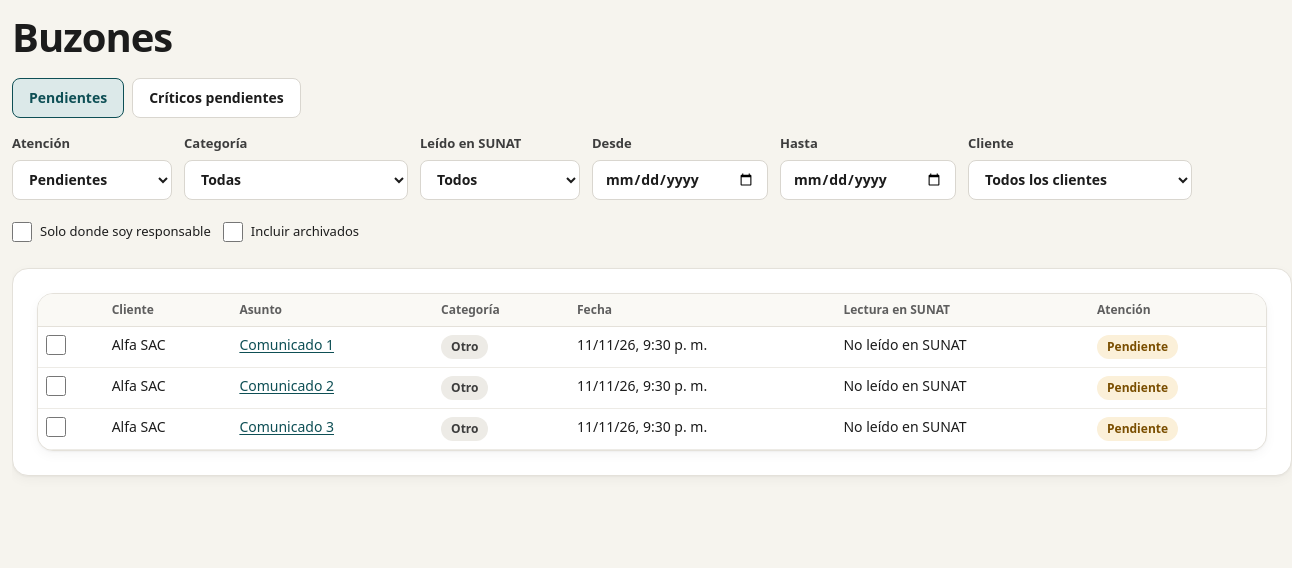
<Bandeja /> · atención en lote desde la lista (CA-6, CA-7) › cambiar de filtro limpia la selección
Click the checkbox named "Seleccionar Comunicado 1": [56, 344] box [46,334,66,354]
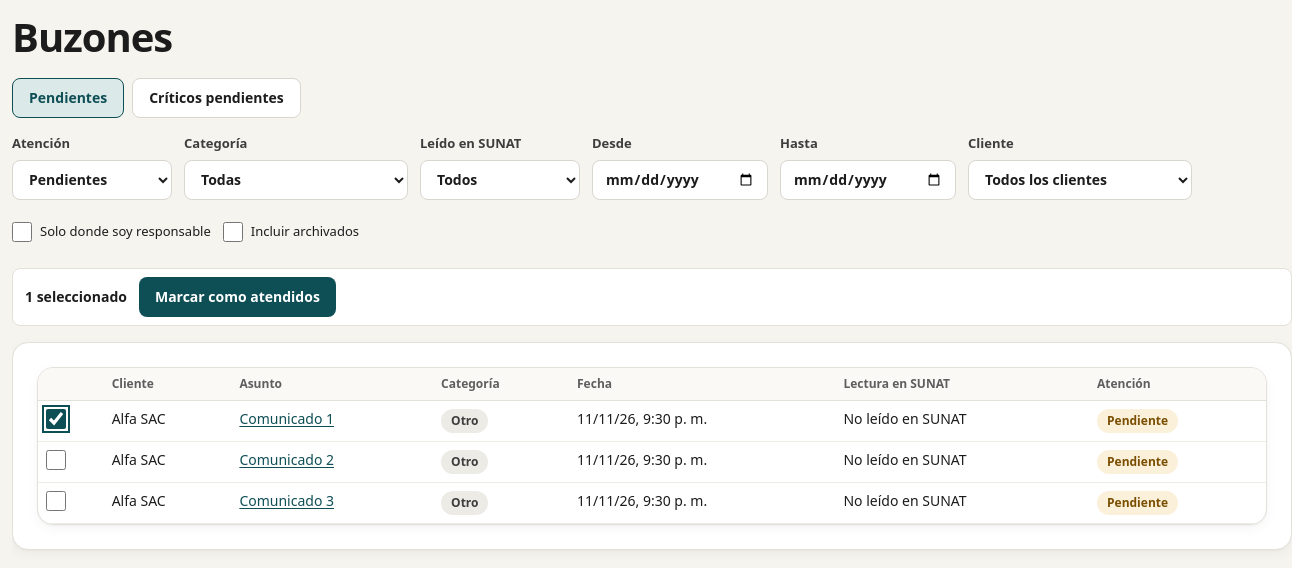
Expected: the text "1 seleccionado" is shown, [25,286,127,306]
Select "Todos" in the dropdown labelled "Atención": [92, 180] box [12,160,172,200]
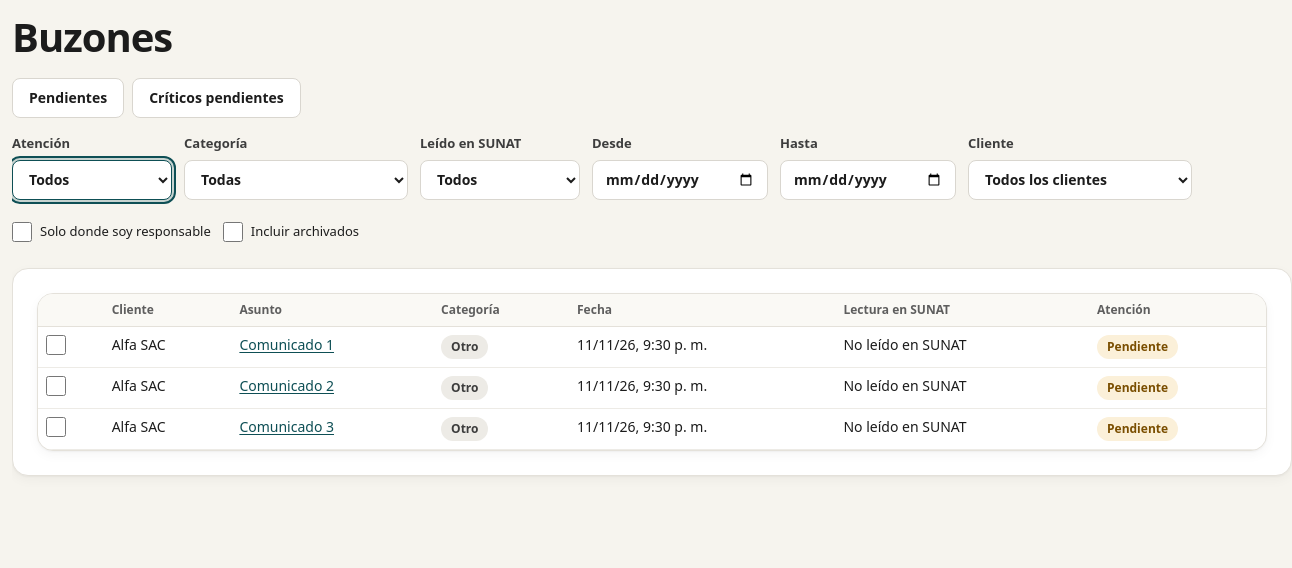
Expected: the text "1 seleccionado" is gone
